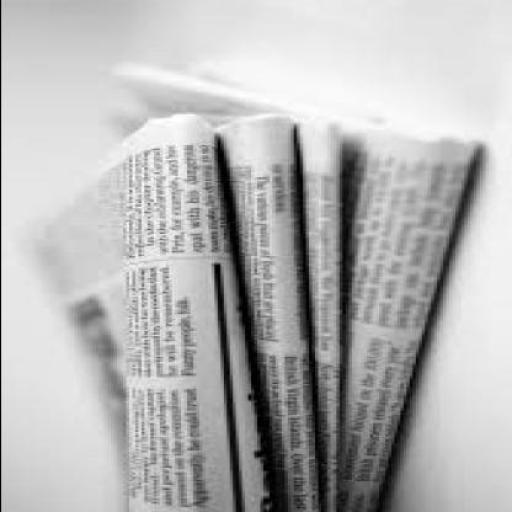paper: (98, 68, 484, 512), (32, 117, 272, 511), (210, 116, 300, 510), (292, 116, 354, 510)
